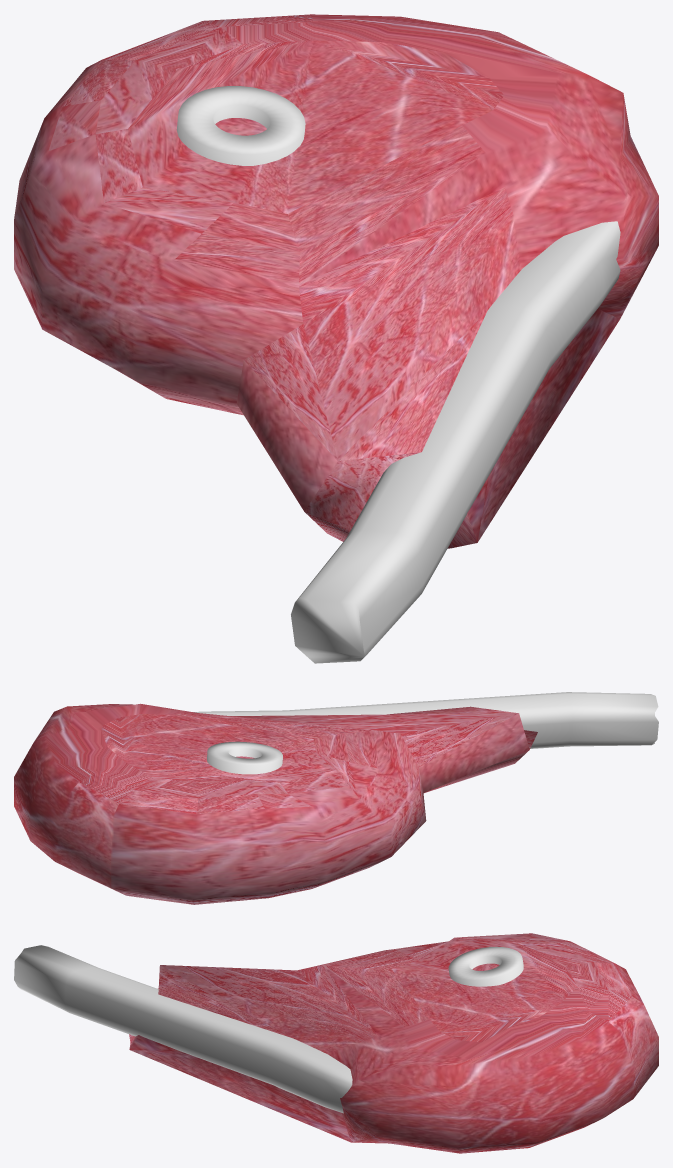
Rendered from Carne.fbx.
The picture shows the model from 3 angles, top to bottom: view 1: azimuth 30°, elevation 25°; view 2: azimuth 150°, elevation 25°; view 3: azimuth 270°, elevation 25°; orthographic projection. The views are drawn at different scales.
Parts seen in each view (by area): view 1: carne; view 2: carne; view 3: carne.
Boxes of the visible parts, x1=… form: carne: x1=14, y1=14, x2=658, y2=663; carne: x1=14, y1=692, x2=658, y2=904; carne: x1=14, y1=933, x2=658, y2=1153.
Bounding box in the file's own units: 580 × 157 × 804.
2 materials, 1 textured.
